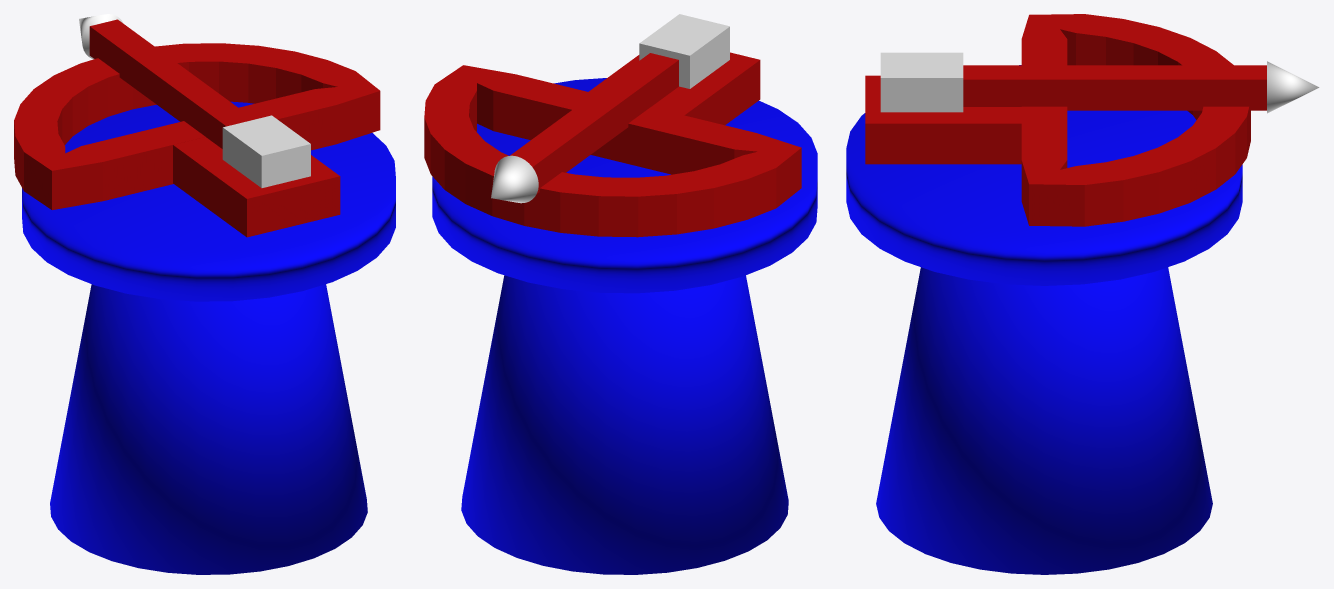
File: Bow.fbx
3 views of the same model, side by side, from view 1: azimuth 30°, elevation 25°; view 2: azimuth 150°, elevation 25°; view 3: azimuth 270°, elevation 25° (orthographic). The views are drawn at different scales.
Parts seen in each view (by area): view 1: Cylinder, Cylinder.001, Circle, Cube, Cube.001, Cube.002, Cone; view 2: Cylinder, Circle, Cylinder.001, Cube.001, Cube, Cube.002, Cone; view 3: Cylinder, Cylinder.001, Circle, Cube.001, Cube, Cube.002, Cone.
Boxes of the visible parts, x1,y1,x2,y2 form: Cylinder: (50, 284, 367, 574); Cylinder.001: (22, 101, 395, 301); Circle: (14, 43, 380, 209); Cube: (173, 137, 340, 237); Cube.001: (89, 19, 253, 148); Cube.002: (222, 115, 310, 187); Cone: (79, 14, 122, 59); Cylinder: (461, 275, 788, 574); Circle: (424, 65, 801, 237); Cylinder.001: (432, 78, 817, 293); Cube.001: (510, 53, 678, 193); Cube: (588, 52, 760, 125); Cube.002: (639, 14, 729, 88); Cone: (491, 155, 538, 203); Cylinder: (876, 267, 1212, 574); Cylinder.001: (846, 65, 1242, 285); Circle: (1021, 14, 1250, 226); Cube.001: (963, 65, 1266, 110); Cube: (865, 75, 1021, 164); Cube.002: (880, 52, 963, 112); Cone: (1267, 61, 1319, 113).
Size of the model in its own units: 140 by 168 by 164.
